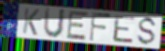E: (65, 10, 90, 42), (112, 14, 136, 45)
F: (88, 11, 113, 43)
K: (21, 7, 41, 37)
S: (135, 16, 159, 46)
U: (42, 7, 67, 40)
